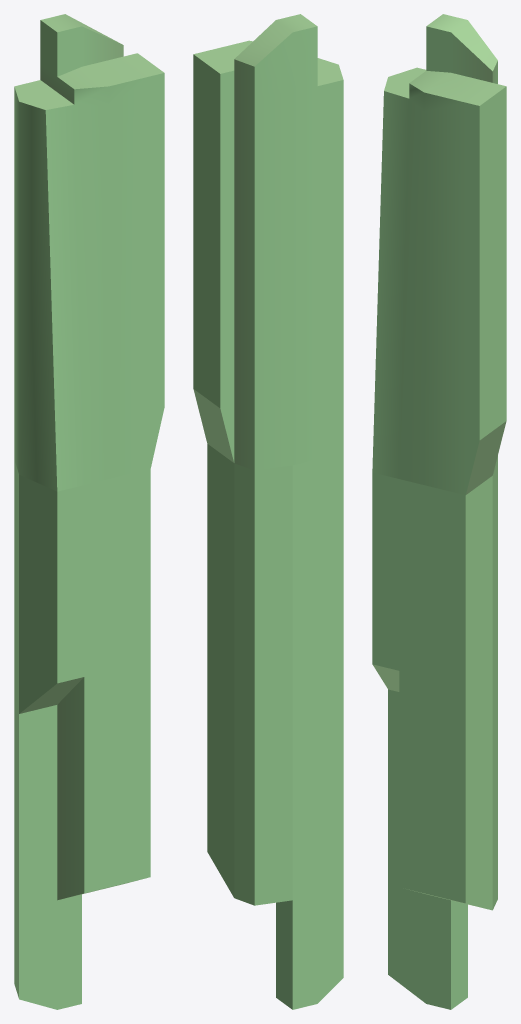
The model's file is CrystalShard.001.glb.
3 views of the same model, side by side, from view 1: azimuth 30°, elevation 25°; view 2: azimuth 210°, elevation 25°; view 3: azimuth 330°, elevation 25° (orthographic).
Visible parts, largest first — view 1: CrystalShard.001; view 2: CrystalShard.001; view 3: CrystalShard.001.
Boxes of the visible parts, x1,y1,x2,y2 form: CrystalShard.001: (14,14,164,1009); CrystalShard.001: (193,14,343,1009); CrystalShard.001: (372,14,506,1009).
Size of the model in its own units: 238 by 1874 by 152.
